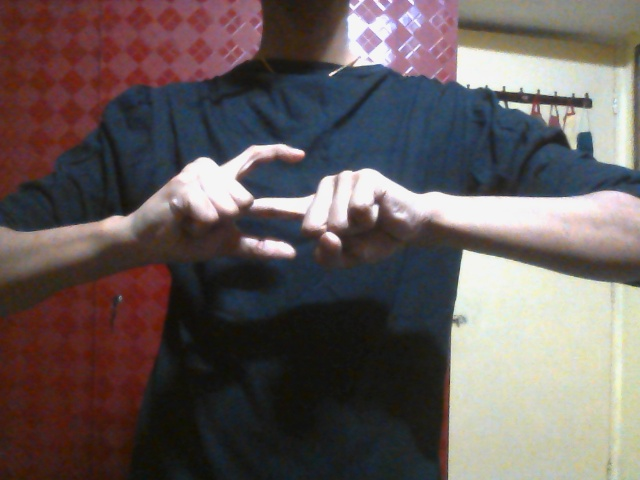E: (161, 138, 419, 281)
